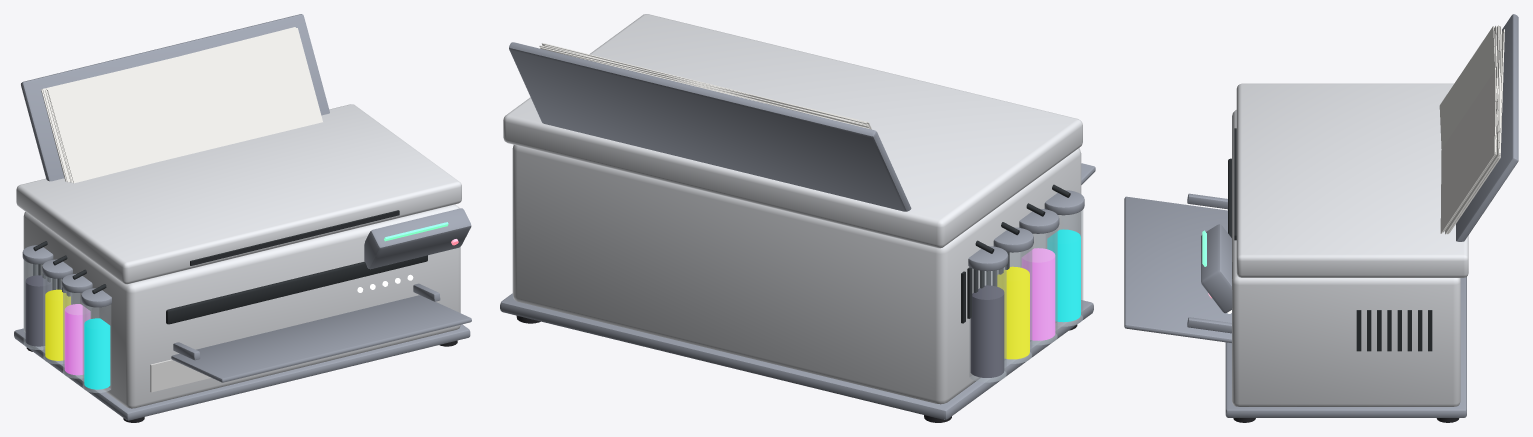
The model's file is printer.glb.
The picture shows the model from 3 angles, left to right: view 1: azimuth 30°, elevation 25°; view 2: azimuth 150°, elevation 25°; view 3: azimuth 270°, elevation 25°; orthographic projection. The views are drawn at different scales.
Visible parts, largest first — view 1: Printer_PrinterShell, Printer_PrinterTrim, Printer_Paper, Printer_InkGlass, Printer_PrinterBlack, Printer_Ink_C, Printer_Ink_M, Printer_Ink_K, Printer_Ink_Y, Printer_Plate; view 2: Printer_PrinterShell, Printer_PrinterTrim, Printer_InkGlass, Printer_Ink_K, Printer_Ink_C, Printer_Ink_M, Printer_Ink_Y, Printer_Paper, Printer_PrinterBlack; view 3: Printer_PrinterShell, Printer_PrinterTrim, Printer_Paper, Printer_PrinterBlack.
Boxes of the visible parts, x1=… form: Printer_PrinterShell: x1=16, y1=104, x2=461, y2=408; Printer_PrinterTrim: x1=14, y1=14, x2=471, y2=420; Printer_Paper: x1=41, y1=27, x2=322, y2=183; Printer_InkGlass: x1=23, y1=260, x2=110, y2=392; Printer_PrinterBlack: x1=33, y1=210, x2=427, y2=324; Printer_Ink_C: x1=84, y1=318, x2=110, y2=389; Printer_Ink_M: x1=64, y1=304, x2=90, y2=375; Printer_Ink_K: x1=25, y1=275, x2=51, y2=346; Printer_Ink_Y: x1=45, y1=289, x2=70, y2=360; Printer_Plate: x1=150, y1=359, x2=211, y2=392; Printer_PrinterShell: x1=503, y1=14, x2=1082, y2=404; Printer_PrinterTrim: x1=500, y1=42, x2=1095, y2=419; Printer_InkGlass: x1=969, y1=210, x2=1083, y2=382; Printer_Ink_K: x1=970, y1=285, x2=1004, y2=377; Printer_Ink_C: x1=1047, y1=229, x2=1080, y2=322; Printer_Ink_M: x1=1022, y1=248, x2=1055, y2=340; Printer_Ink_Y: x1=997, y1=266, x2=1029, y2=359; Printer_Paper: x1=539, y1=43, x2=871, y2=129; Printer_PrinterBlack: x1=961, y1=184, x2=1070, y2=323; Printer_PrinterShell: x1=1232, y1=83, x2=1468, y2=406; Printer_PrinterTrim: x1=1124, y1=14, x2=1518, y2=417; Printer_Paper: x1=1439, y1=25, x2=1504, y2=234; Printer_PrinterBlack: x1=1228, y1=128, x2=1432, y2=351.
Size of the model in its own units: 69.2 by 43.73 by 62.01.
